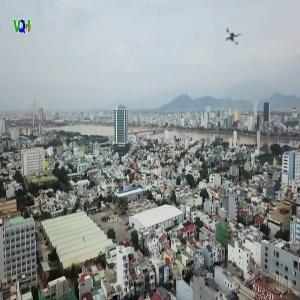drone: (206, 8, 264, 66)
